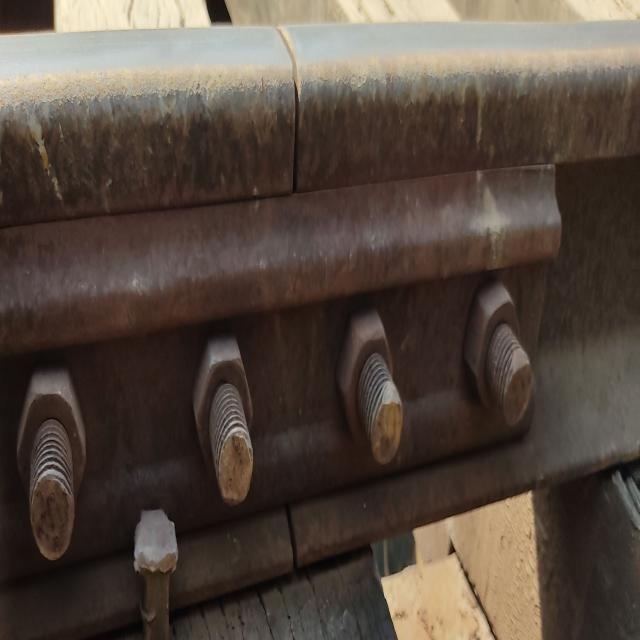Good Joint: (0, 165, 562, 580)
